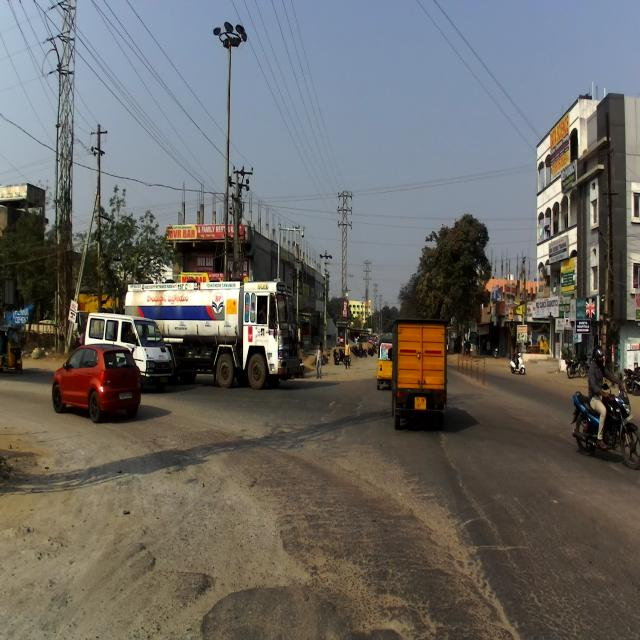car ahead at: (51, 332, 144, 430)
motorcycle ahead at: (569, 382, 640, 468)
truck ahead at: (128, 271, 297, 397), (389, 313, 455, 437)
